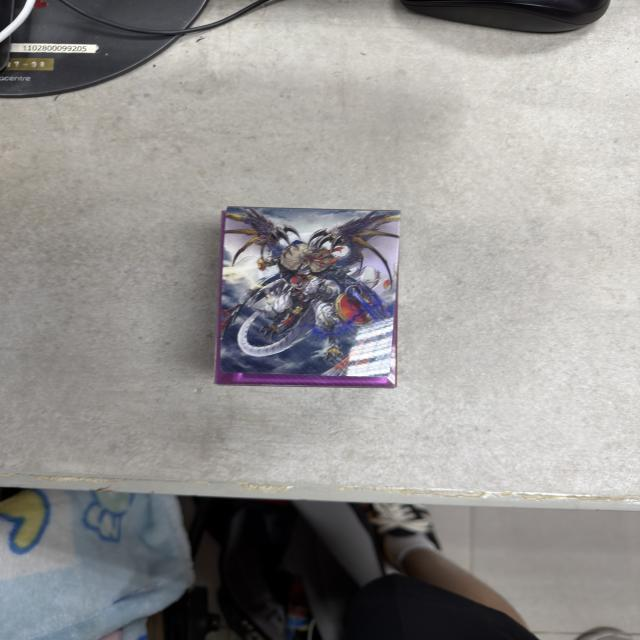box: (219, 207, 400, 390)
